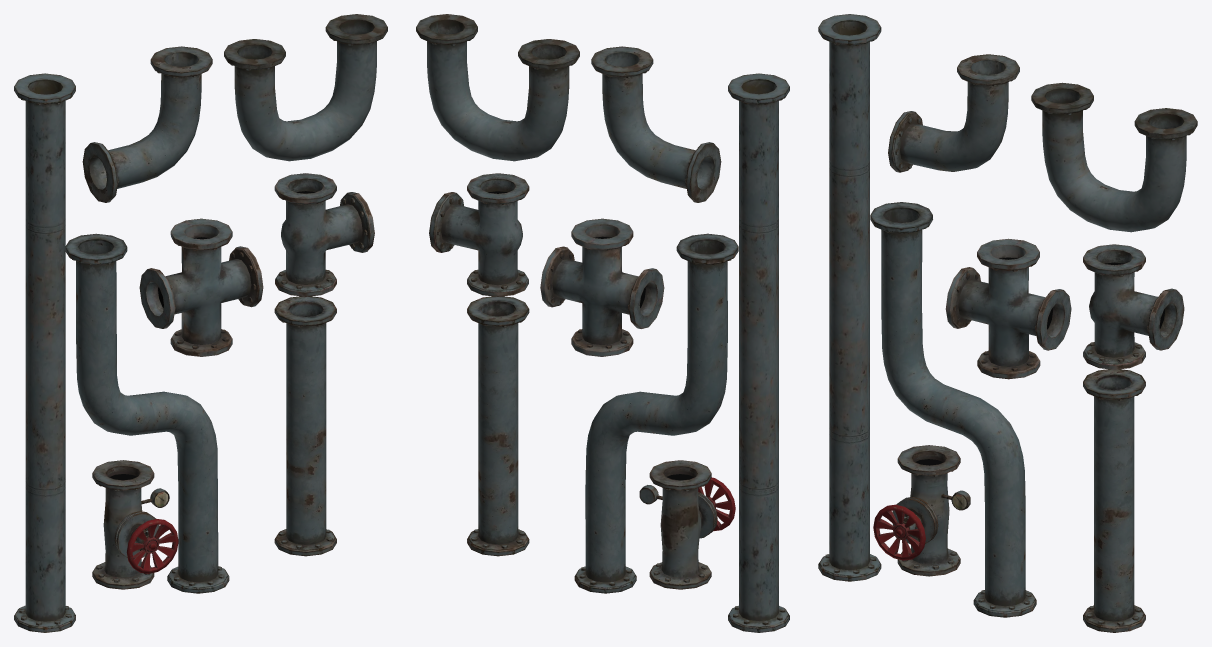
The model's file is modular-industrial-pipes-01.glb.
3 renders of one model, left to right at view 1: azimuth 30°, elevation 25°; view 2: azimuth 150°, elevation 25°; view 3: azimuth 330°, elevation 25°, orthographic.
Visible parts, largest first — view 1: modular_industrial_pipes_01_pipe01, modular_industrial_pipes_01_pipe05; view 2: modular_industrial_pipes_01_pipe01, modular_industrial_pipes_01_pipe05; view 3: modular_industrial_pipes_01_pipe01, modular_industrial_pipes_01_pipe05.
Boxes of the visible parts, <box> form: modular_industrial_pipes_01_pipe01: <box>14,46,336,632</box>; modular_industrial_pipes_01_pipe05: <box>92,14,387,589</box>; modular_industrial_pipes_01_pipe01: <box>467,46,789,632</box>; modular_industrial_pipes_01_pipe05: <box>416,14,735,589</box>; modular_industrial_pipes_01_pipe01: <box>818,14,1145,632</box>; modular_industrial_pipes_01_pipe05: <box>873,82,1197,576</box>.
Size of the model in its own units: 1.4 by 1.95 by 0.3072.
2 materials, 2 textured.
